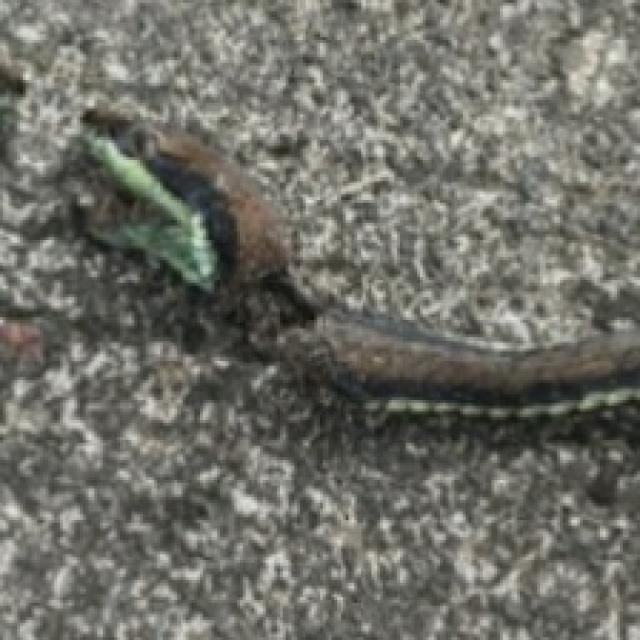philippine bronzeback treesnake: (83, 106, 637, 403)
